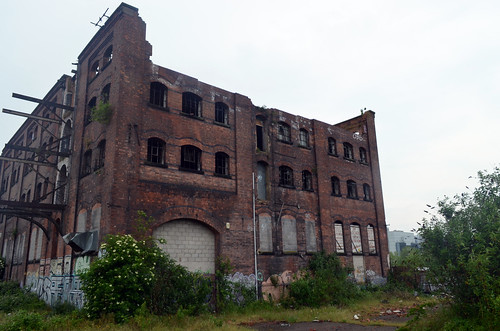building: (1, 21, 429, 297)
sky: (147, 1, 499, 185)
tree: (428, 184, 500, 331)
